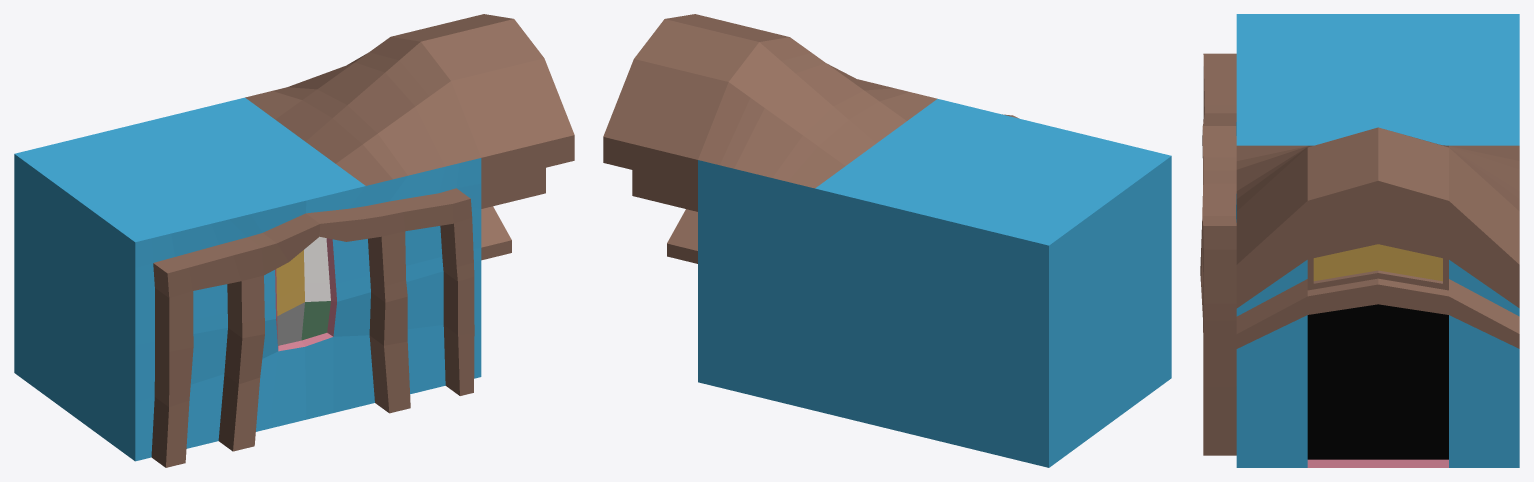
Rendered from 2_building_normals.fbx.
The picture shows the model from 3 angles, left to right: view 1: azimuth 30°, elevation 25°; view 2: azimuth 150°, elevation 25°; view 3: azimuth 270°, elevation 25°; orthographic projection. The views are drawn at different scales.
Parts seen in each view (by area): view 1: building_2; view 2: building_2; view 3: building_2.
Boxes of the visible parts, x1,y1,x2,y2 form: building_2: [14, 14, 574, 467]; building_2: [603, 14, 1171, 467]; building_2: [1200, 14, 1519, 467].
Bounding box in the file's own units: 1892 × 1197 × 1018.
